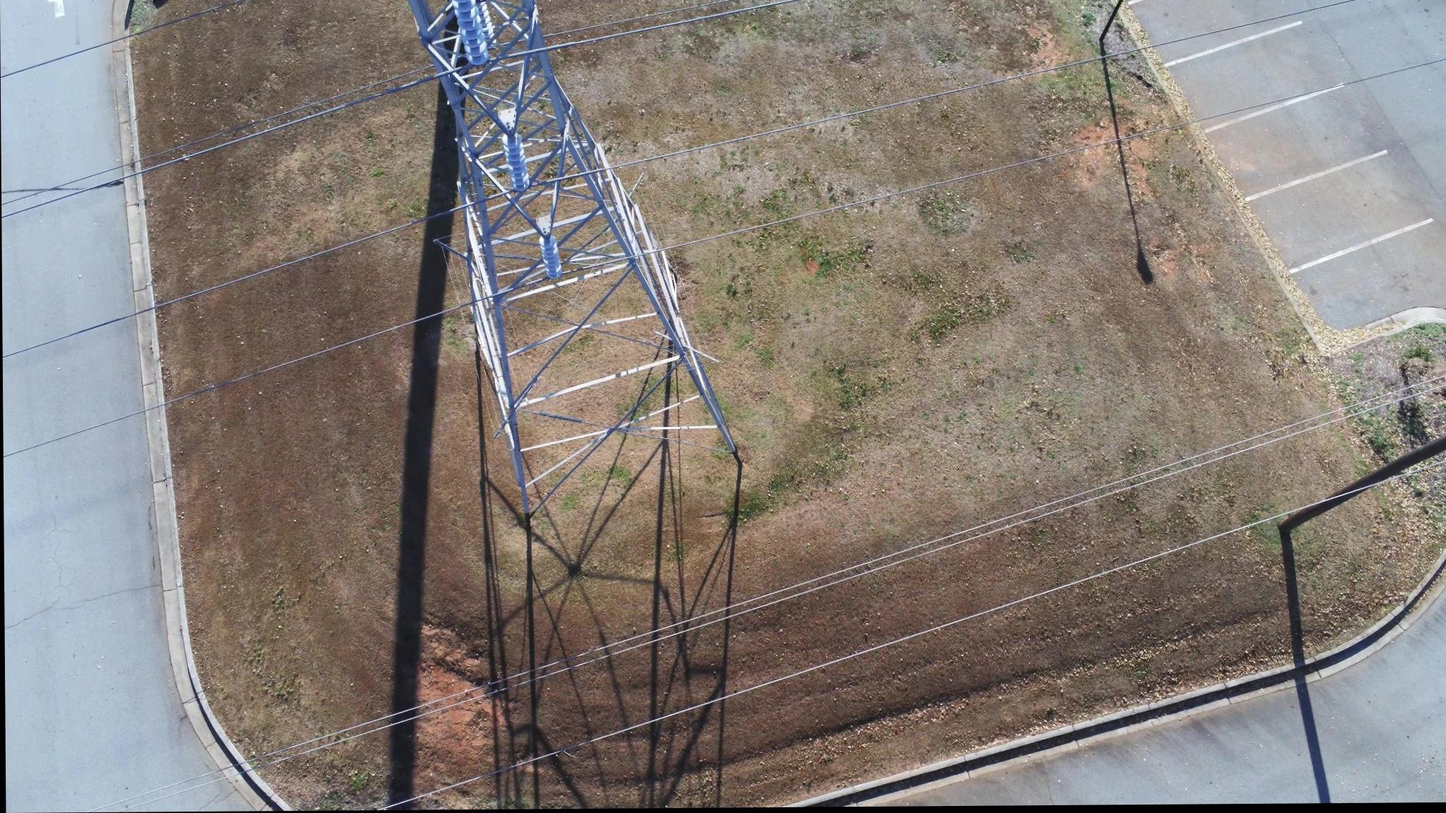tower: (401, 0, 755, 519)
